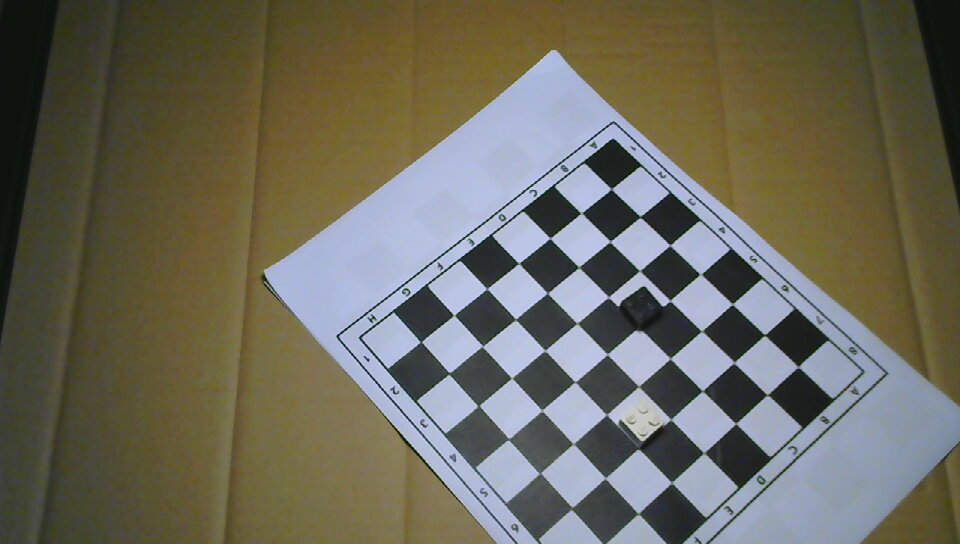bp: (621, 286, 663, 330)
wp: (618, 398, 664, 446)
